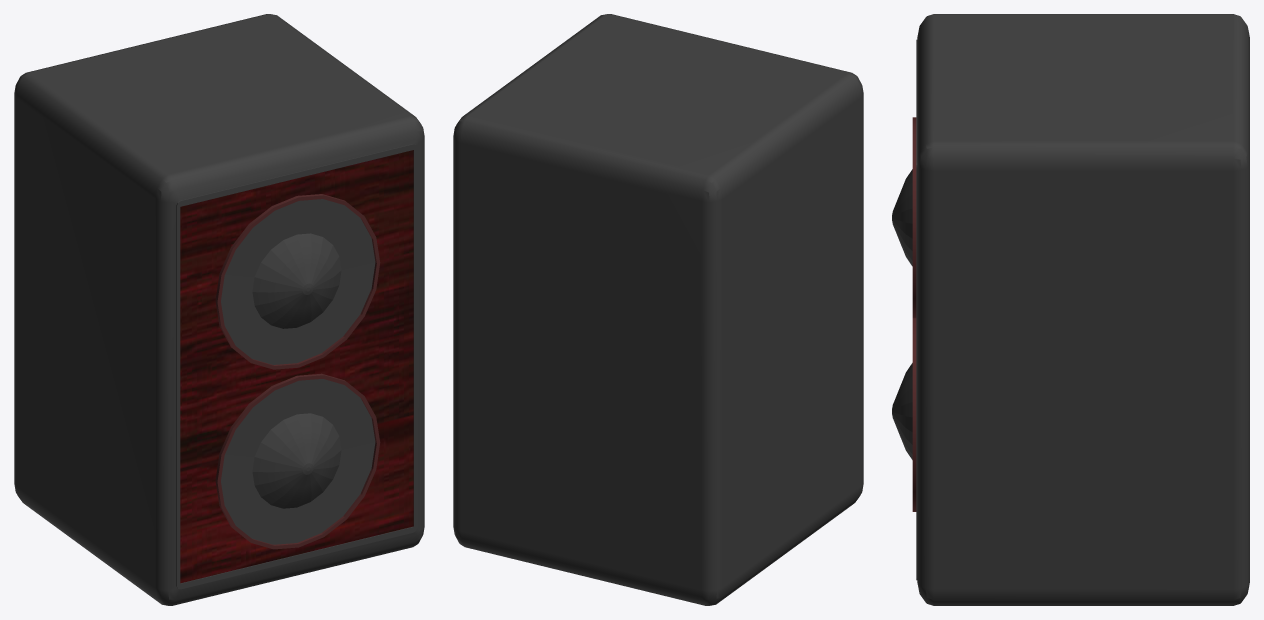
File: Speaker.fbx
3 views of the same model, side by side, from view 1: azimuth 30°, elevation 25°; view 2: azimuth 150°, elevation 25°; view 3: azimuth 270°, elevation 25° (orthographic). The views are drawn at different scales.
Parts seen in each view (by area): view 1: pCube1, pCylinder2, pCylinder3; view 2: pCube1; view 3: pCube1, pCylinder3, pCylinder2.
Boxes of the visible parts, <box> form: pCube1: <box>14,14,424,605</box>; pCylinder2: <box>215,373,380,549</box>; pCylinder3: <box>215,194,380,369</box>; pCube1: <box>453,14,863,605</box>; pCube1: <box>916,14,1249,605</box>; pCylinder3: <box>892,117,916,318</box>; pCylinder2: <box>892,318,916,511</box>.
Size of the model in its own units: 24.31 by 37.47 by 26.16.
